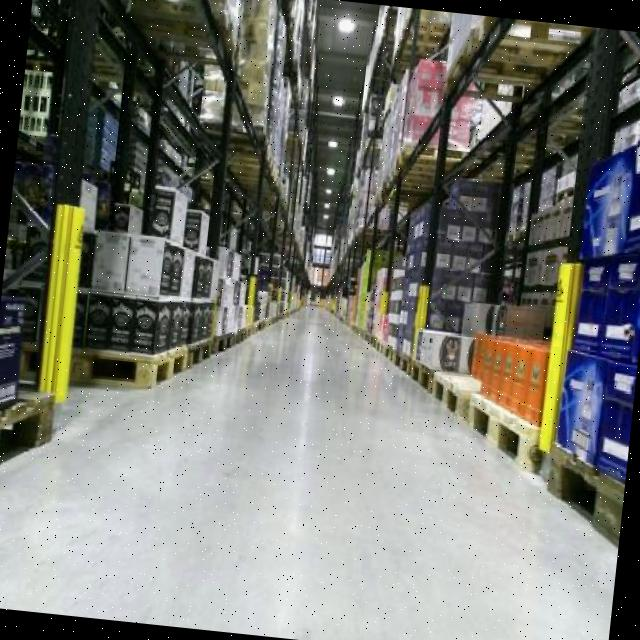pallet: (539, 426, 630, 548), (68, 321, 195, 406), (460, 386, 552, 479), (420, 358, 495, 420), (178, 320, 224, 366), (410, 352, 437, 391)
